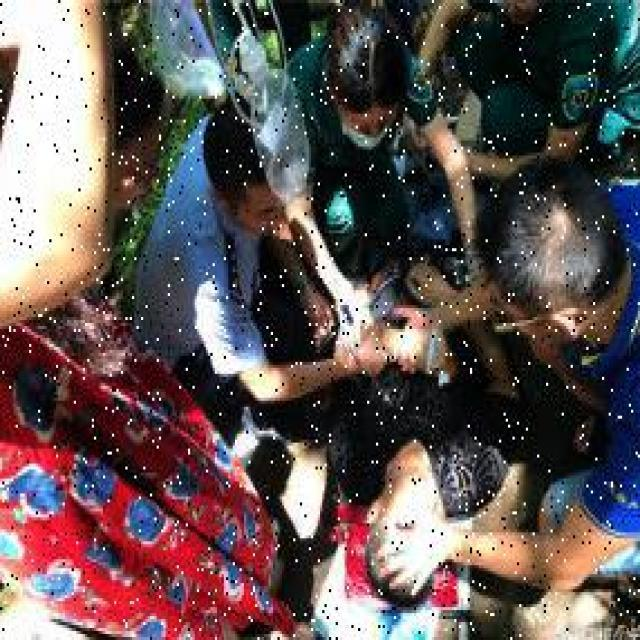fall: (338, 233, 494, 601)
